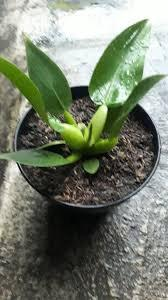ylang-ylang: (43, 7, 100, 73), (14, 21, 31, 56)
